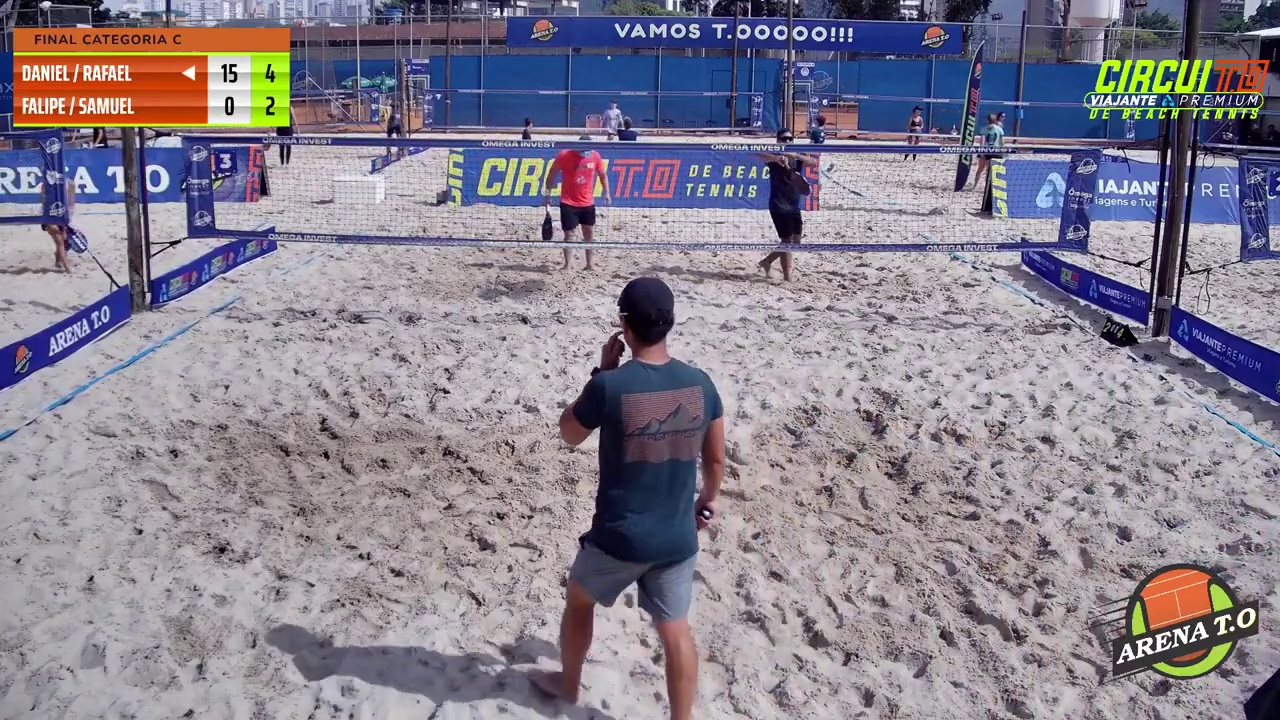court_line: (531, 0, 671, 472), (643, 0, 808, 362)
